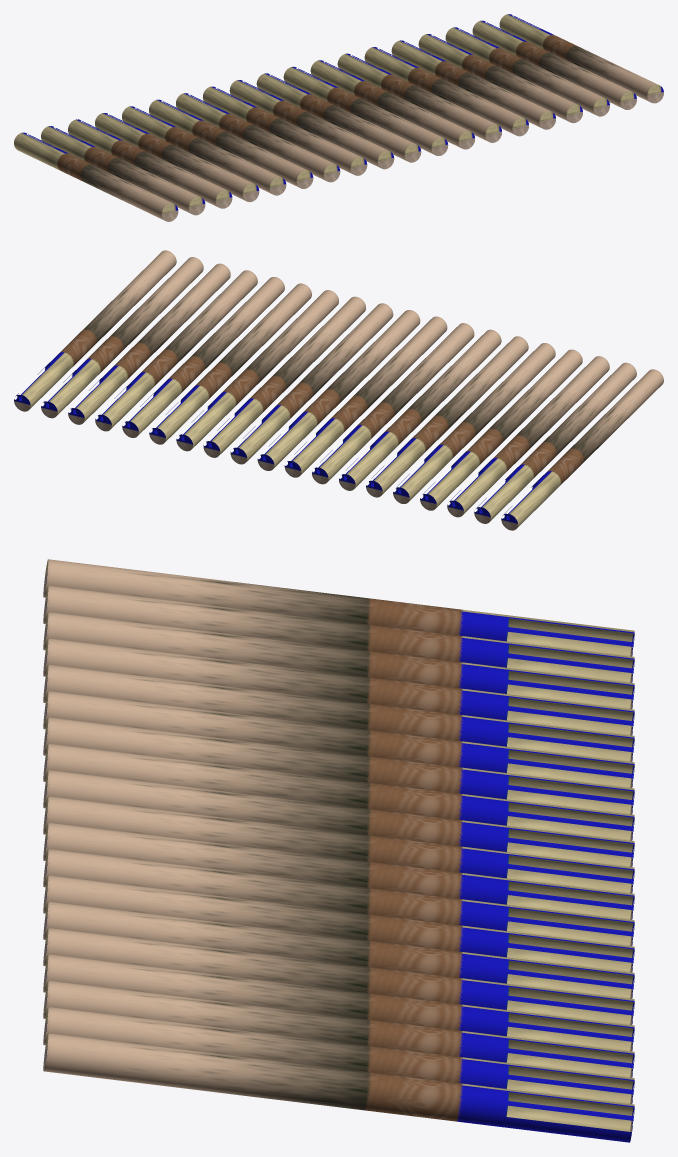
The model's file is roofKiris.fbx.
The picture shows the model from 3 angles, top to bottom: view 1: azimuth 30°, elevation 25°; view 2: azimuth 150°, elevation 25°; view 3: azimuth 270°, elevation 25°; orthographic projection. The views are drawn at different scales.
Visible parts, largest first — view 1: S_kiris.001; view 2: S_kiris.001; view 3: S_kiris.001.
Boxes of the visible parts, x1,y1,x2,y2 form: S_kiris.001: [14, 14, 663, 221]; S_kiris.001: [14, 250, 663, 530]; S_kiris.001: [43, 559, 634, 1142].
Bounding box in the file's own units: 648 × 65.82 × 329.
